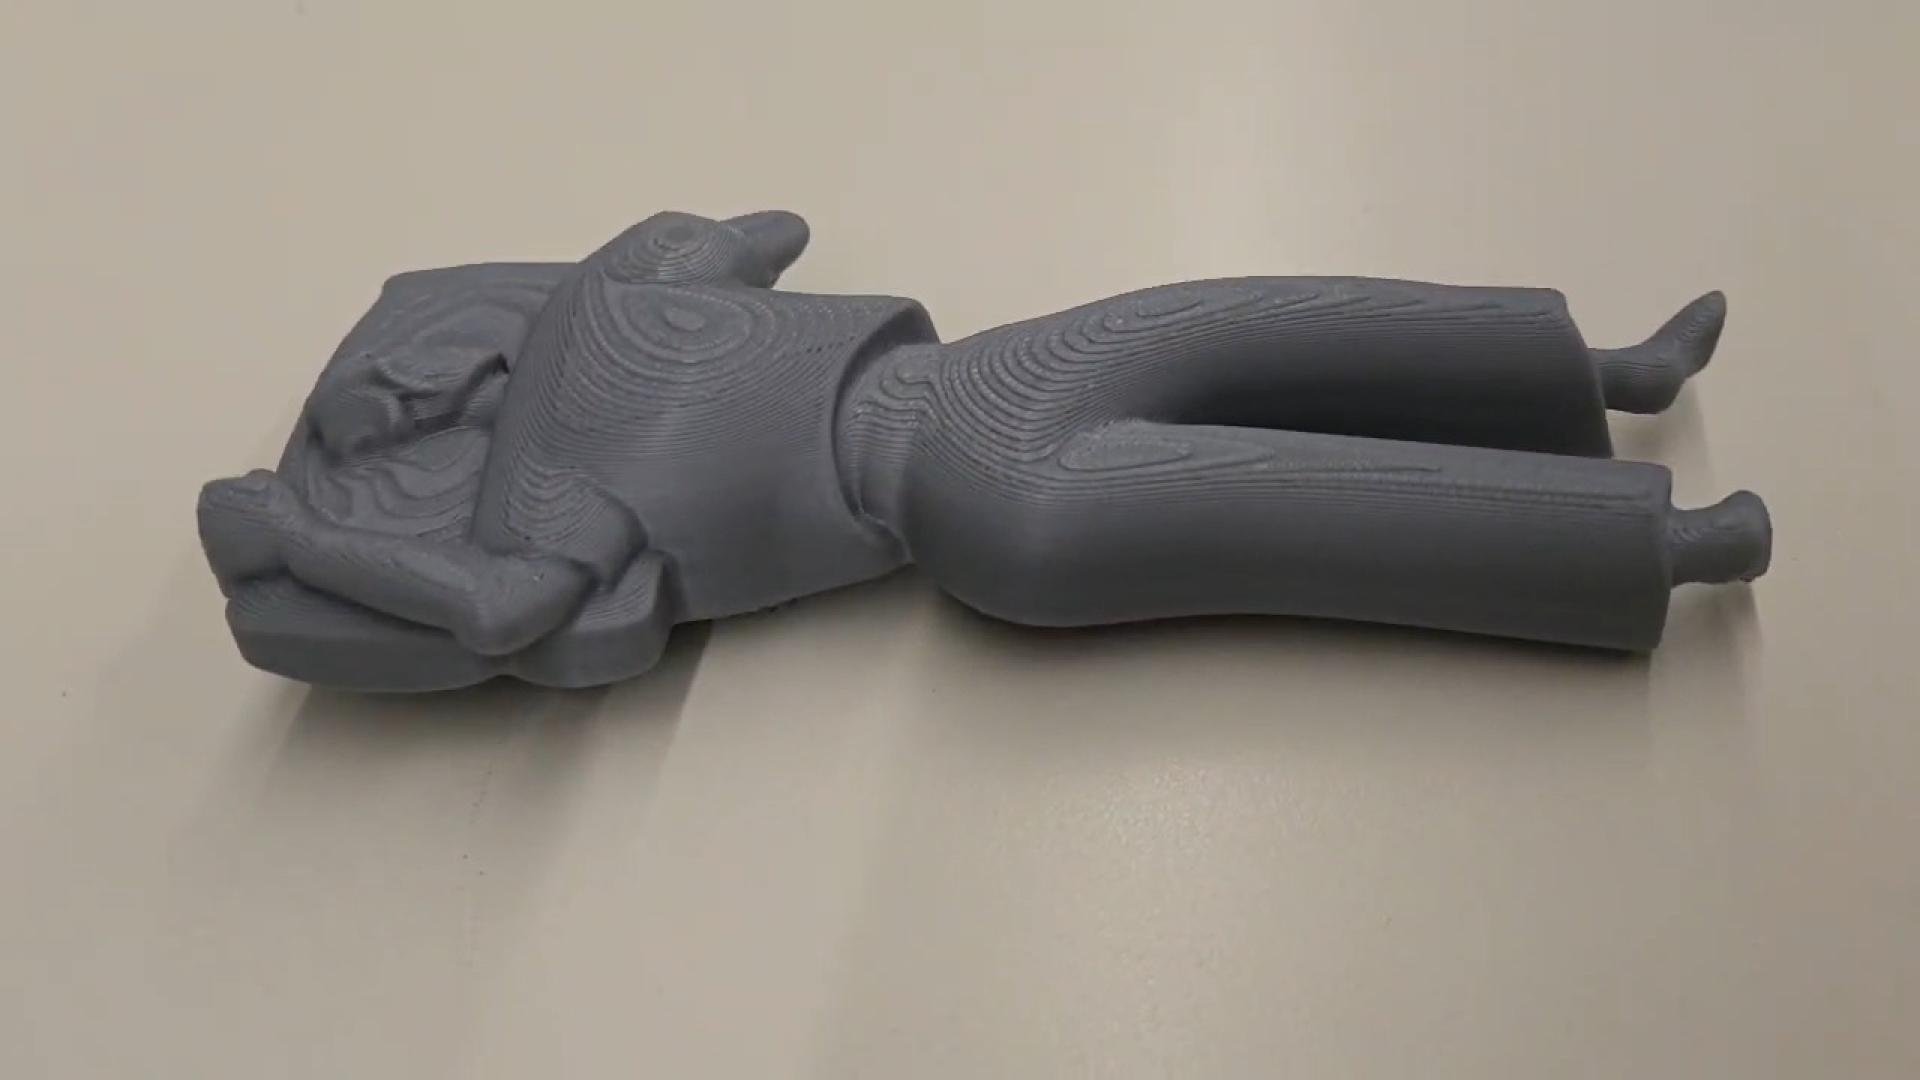Bad-style: (199, 203, 1782, 712)
